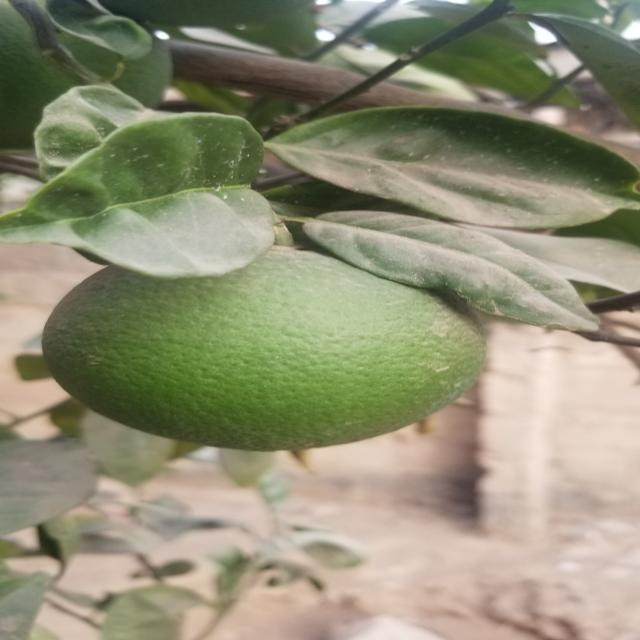agrume: (46, 252, 477, 448)
